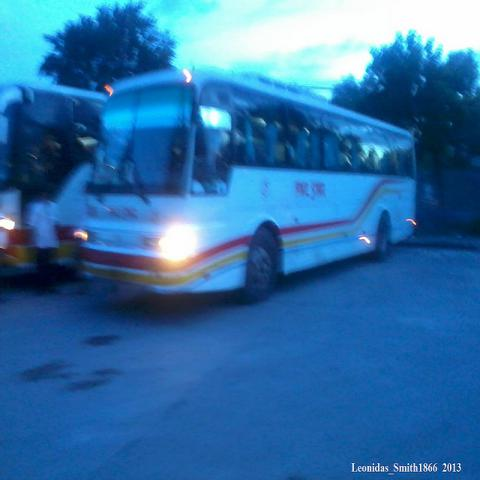bus: (68, 71, 420, 308), (2, 81, 111, 272)
